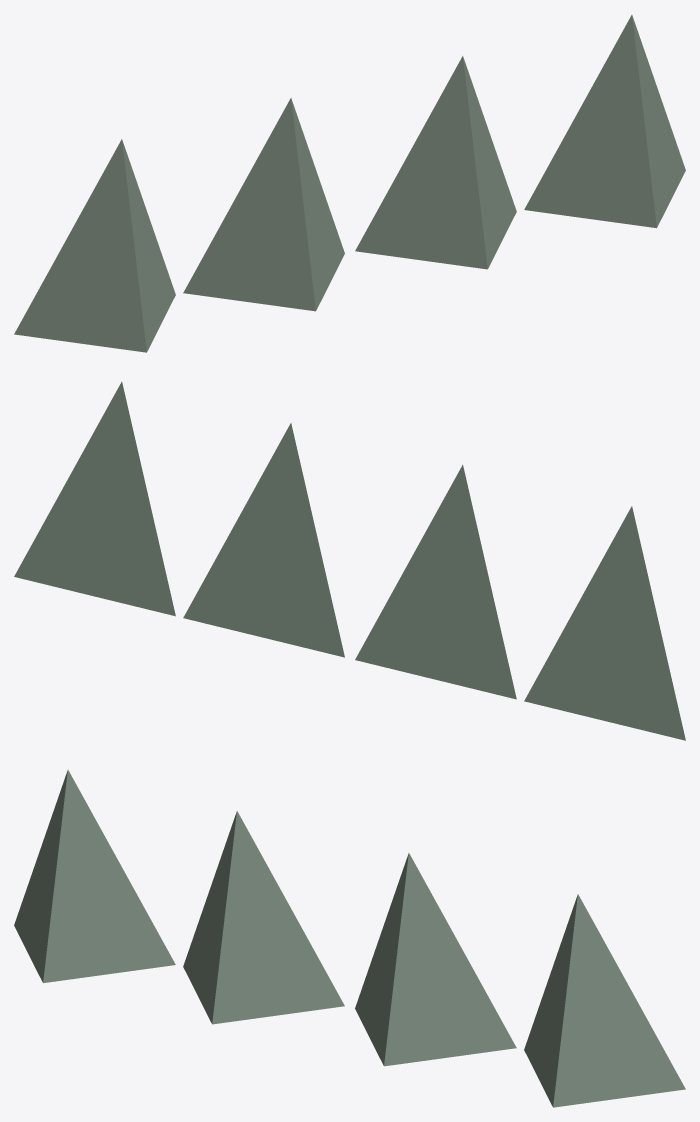
Rendered from trap.fbx.
3 renders of one model, top to bottom at view 1: azimuth 30°, elevation 25°; view 2: azimuth 150°, elevation 25°; view 3: azimuth 330°, elevation 25°, orthographic.
Parts seen in each view (by area): view 1: Cone; view 2: Cone; view 3: Cone.
Part boxes in pixels (left/top/right/bottom): Cone: left=14, top=15, right=685, bottom=352; Cone: left=14, top=381, right=685, bottom=740; Cone: left=14, top=770, right=685, bottom=1107.
Bounding box in the file's own units: 719 × 200 × 96.16.
